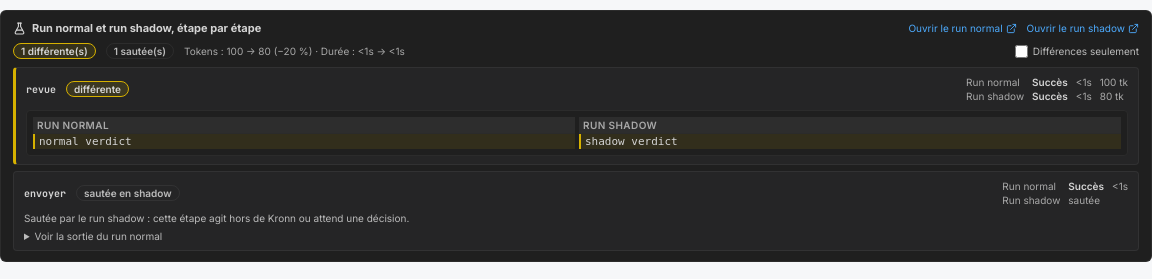
Test case: comparing a run with its shadow (KT-1449) › loads both full runs, then shows verdicts, the diff and the totals
This screenshot has width=1152, height=279.
Expected: the element with test id "wf-shadow-diff-revue" shows "normal verdict", [39,135,132,148]
Expected: the element with test id "wf-shadow-diff-revue" shows "shadow verdict", [585,135,678,148]
Click the checkbox.
click(1021, 51)  # box [1015,44,1028,58]
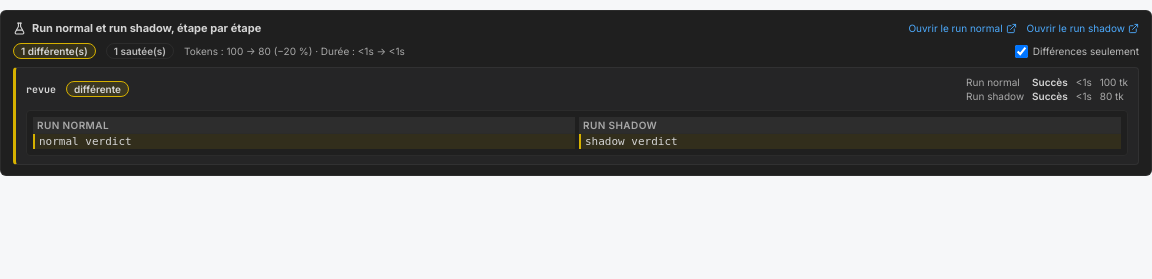
Expected: the list item with test id "wf-shadow-compare-revue" is shown, [13,67,1139,165]
Expected: the list item with test id "wf-shadow-compare-envoyer" is gone
